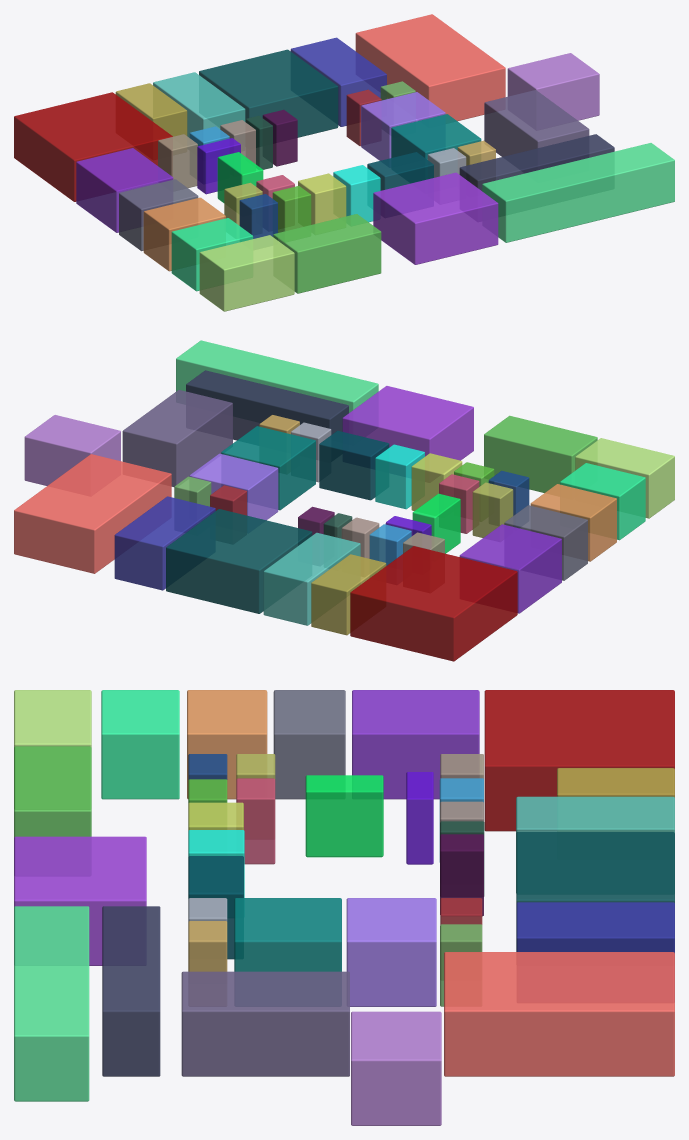
3 renders of one model, top to bottom at view 1: azimuth 30°, elevation 25°; view 2: azimuth 150°, elevation 25°; view 3: azimuth 270°, elevation 25°, orthographic. The views are drawn at different scales.
Visible parts, largest first — view 1: balconynosmoke, a11a12, a3, bathroomsandexits, bathroomsandexits2, a23, a24, a14, a2, balconysmokers, vector, kitchen (+24 smaller); view 2: a3, a11a12, bathroomsandexits2, a14, bathroomsandexits, balconynosmoke, a23, kitchen, vector, a6, a2, balconysmokers (+24 smaller); view 3: a11a12, a3, a14, balconynosmoke, bathroomsandexits2, a2, balconysmokers, bathroomsandexits, kitchen, library, a25, b14 (+25 smaller).
Part boxes in pixels (x1,y1,x2,y2): balconynosmoke: (482, 143, 674, 242); a11a12: (355, 14, 505, 121); a3: (14, 92, 172, 201); bathroomsandexits: (373, 172, 498, 264); bathroomsandexits2: (199, 49, 338, 137); a23: (273, 214, 381, 293); a24: (199, 235, 294, 311); a14: (484, 90, 589, 156); a2: (76, 148, 173, 232); balconysmokers: (507, 53, 599, 120); vector: (290, 37, 386, 126); kitchen: (459, 134, 614, 191); a3: (350, 546, 517, 661); a11a12: (14, 454, 171, 573); bathroomsandexits2: (166, 509, 312, 613); a14: (122, 390, 232, 486); bathroomsandexits: (342, 386, 473, 460); balconynosmoke: (176, 340, 378, 412); a23: (484, 415, 597, 492); kitchen: (186, 370, 348, 440); vector: (114, 496, 215, 590); a6: (263, 532, 360, 625); a2: (459, 524, 561, 613); balconysmokers: (24, 415, 120, 485); a11a12: (444, 952, 674, 1076); a3: (484, 690, 674, 831); a14: (181, 971, 349, 1076); balconynosmoke: (14, 906, 89, 1101); bathroomsandexits2: (516, 832, 674, 951); a2: (352, 690, 479, 799); balconysmokers: (351, 1011, 441, 1125); bathroomsandexits: (14, 836, 146, 965); kitchen: (102, 906, 160, 1076); library: (346, 898, 436, 1006); a25: (101, 690, 179, 799); b14: (234, 898, 341, 971).
Bounding box in the file's own units: 299 × 25 × 225.
